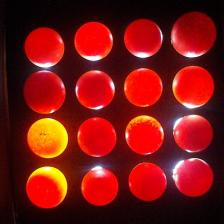fertile: (170, 9, 218, 59), (23, 70, 66, 114), (75, 70, 115, 110), (123, 19, 163, 59), (128, 162, 168, 202), (77, 117, 115, 158), (174, 114, 213, 153), (81, 167, 118, 207)
infertile: (172, 65, 214, 109), (26, 166, 67, 208), (25, 27, 65, 68), (27, 118, 68, 158), (74, 21, 113, 62), (174, 157, 213, 198), (125, 115, 164, 155), (125, 68, 164, 107)
